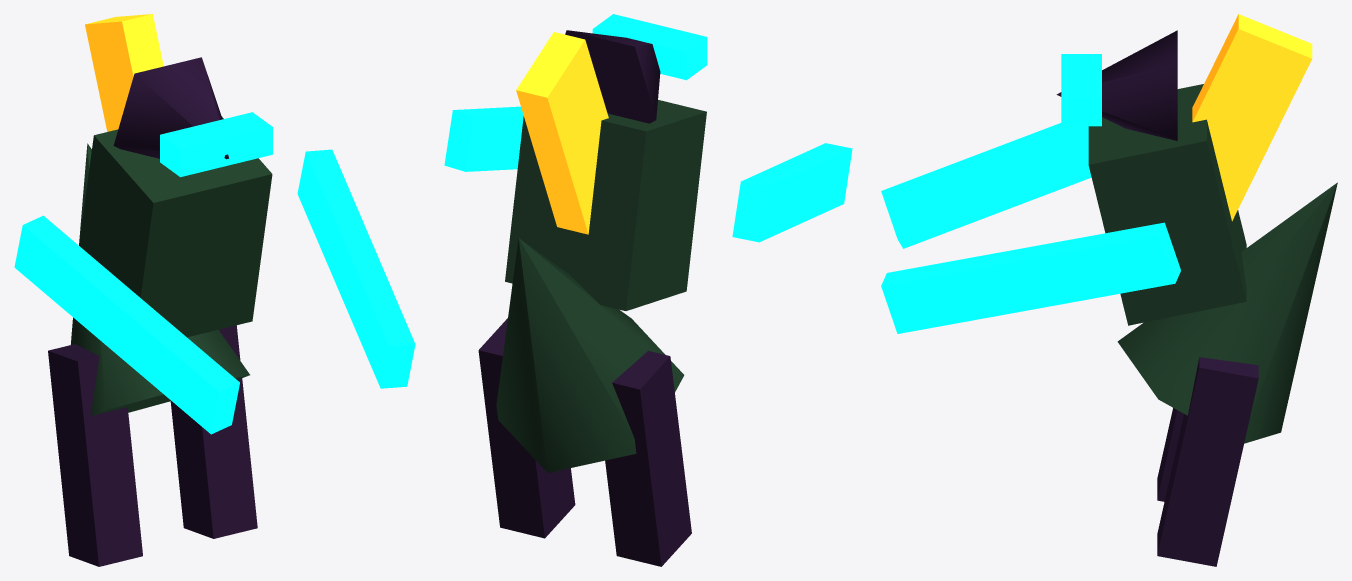
File: enemy_mantis.glb
3 views of the same model, side by side, from view 1: azimuth 30°, elevation 25°; view 2: azimuth 150°, elevation 25°; view 3: azimuth 270°, elevation 25° (orthographic). The views are drawn at different scales.
Parts seen in each view (by area): view 1: thorax, scythe_l, leg_l, scythe_r, leg_r, head, spine_crest, abdomen, eyes; view 2: thorax, abdomen, leg_l, spine_crest, leg_r, scythe_l, head, scythe_r, eyes; view 3: thorax, abdomen, scythe_r, leg_r, scythe_l, spine_crest, head, eyes, leg_l.
Boxes of the visible parts, box(x1,y1,x2,y2) form: thorax: box(79, 116, 272, 337); scythe_l: box(14, 215, 239, 434); leg_l: box(48, 344, 142, 566); scythe_r: box(297, 149, 415, 388); leg_r: box(170, 325, 257, 538); head: box(113, 57, 228, 159); spine_crest: box(85, 14, 163, 131); abdomen: box(70, 143, 249, 415); eyes: box(160, 112, 272, 177); thorax: box(505, 100, 706, 310); abdomen: box(496, 238, 684, 472); leg_l: box(605, 351, 691, 566); spine_crest: box(516, 32, 608, 234); leg_r: box(478, 318, 575, 538); scythe_l: box(732, 143, 852, 242); head: box(565, 30, 660, 123); scythe_r: box(444, 106, 523, 171); eyes: box(592, 14, 707, 80); thorax: box(1088, 84, 1246, 325); abdomen: box(1117, 182, 1337, 443); scythe_r: box(881, 222, 1180, 333); leg_r: box(1157, 357, 1258, 566); scythe_l: box(881, 123, 1091, 248); spine_crest: box(1192, 14, 1312, 221); head: box(1056, 30, 1177, 140); eyes: box(1061, 54, 1101, 126); leg_l: box(1157, 408, 1183, 501).
Size of the model in its own units: 1.4 by 2.22 by 1.81.
